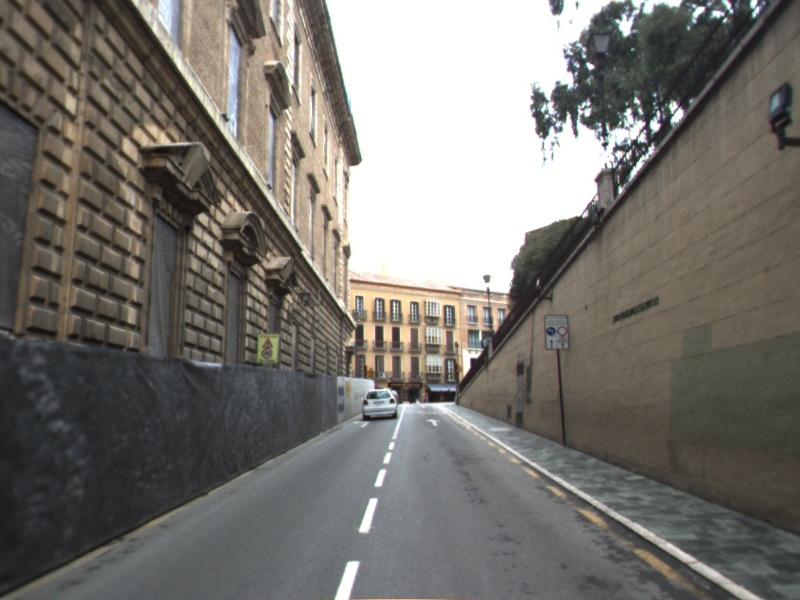LEFT: (351, 418, 372, 429)
STRAIGHT: (423, 416, 443, 428)
